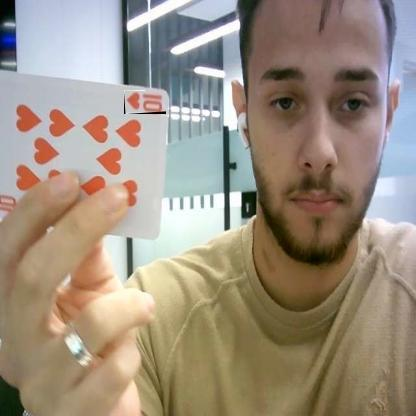10H: (124, 91, 166, 114)
